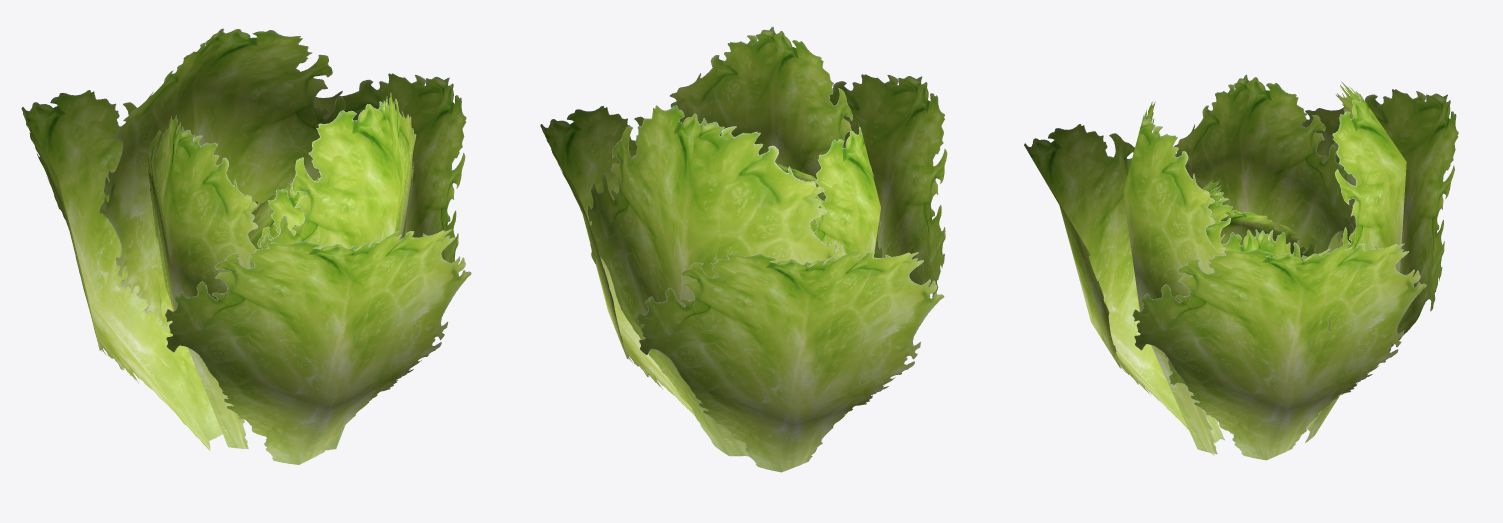
File: lettuce.fbx
3 views of the same model, side by side, from view 1: azimuth 30°, elevation 25°; view 2: azimuth 150°, elevation 25°; view 3: azimuth 270°, elevation 25° (orthographic). The views are drawn at different scales.
Parts seen in each view (by area): view 1: Plane.001; view 2: Plane.001; view 3: Plane.001.
Boxes of the visible parts, bbox=[...] form: Plane.001: bbox=[21, 28, 471, 464]; Plane.001: bbox=[540, 26, 947, 472]; Plane.001: bbox=[1024, 74, 1458, 460].
Bounding box in the file's own units: 14.92 × 12.97 × 14.99.
1 material, 1 textured.
